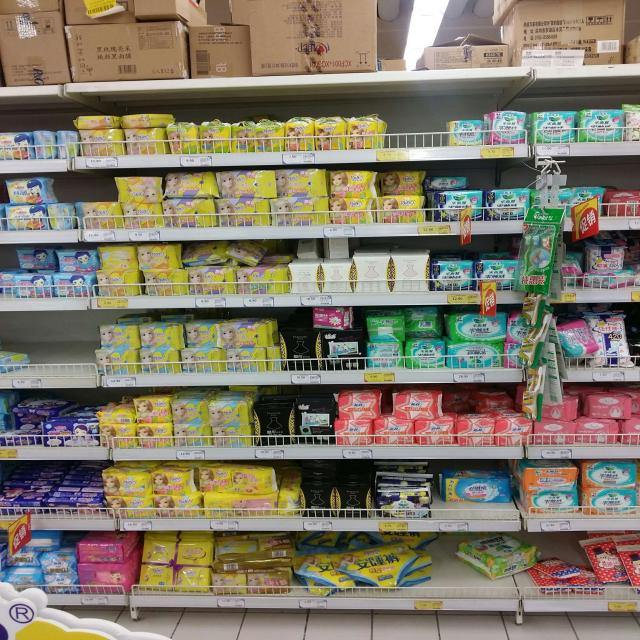void: (32, 311, 93, 377), (386, 91, 444, 145)
